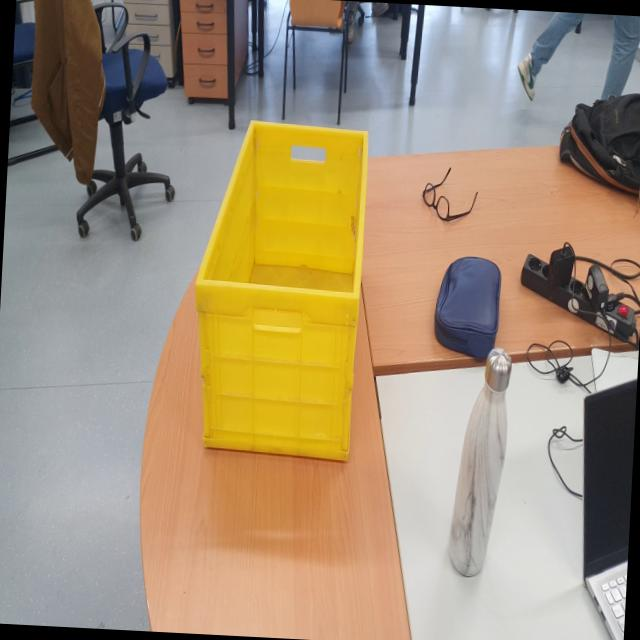box: (170, 106, 380, 502)
